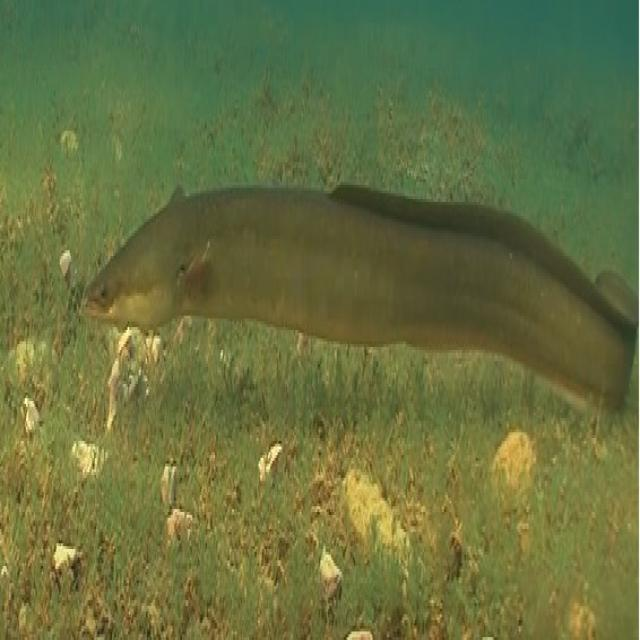Freshwater-Eel: (74, 159, 640, 441)
